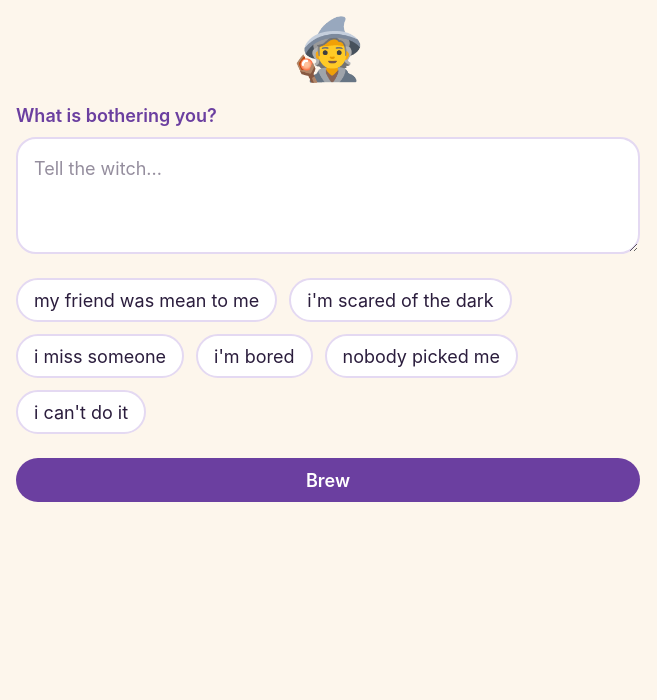
Test: App › returns to the form when Escape is pressed while presenting
This screenshot has width=657, height=700.
Type "i miss someone" into the text box labelled "What is bothering you?" at point(328, 196), box [16,137,640,254]
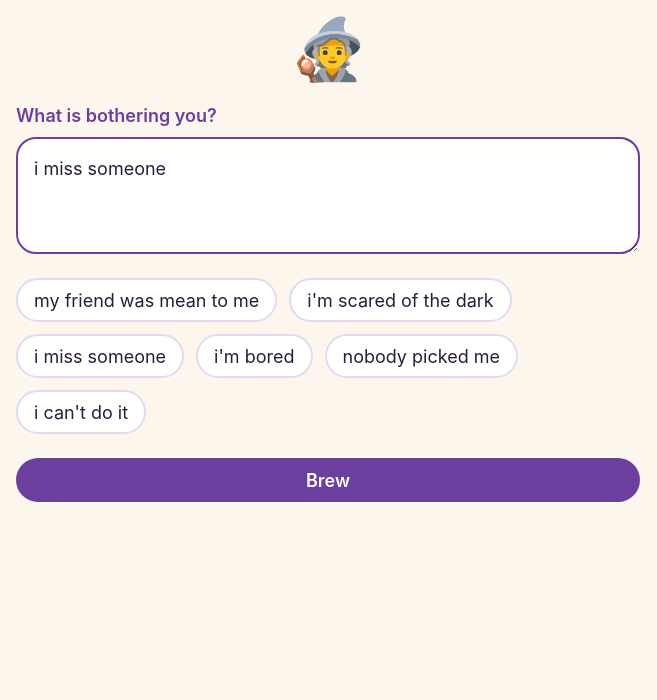
Click the button "Brew" at point(328, 480), box [16,458,640,502]
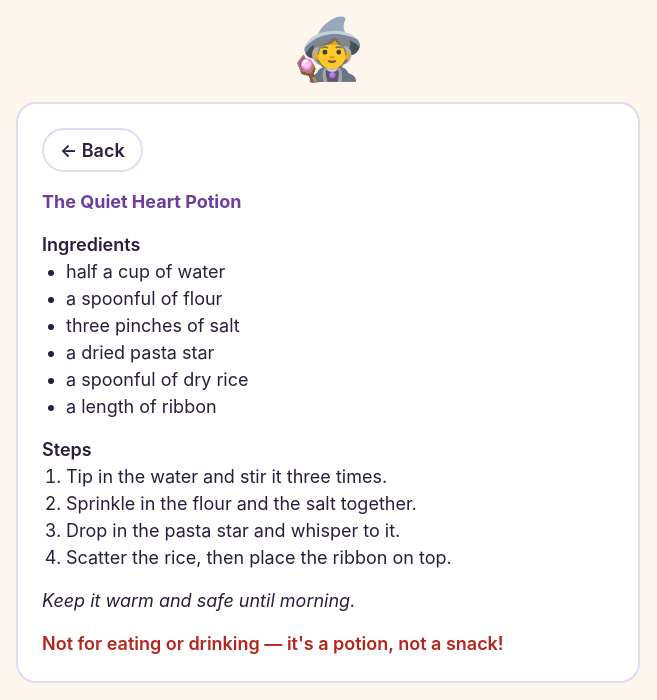
Expected: the heading "The Quiet Heart Potion" is shown, [42,191,242,212]
Press Escape
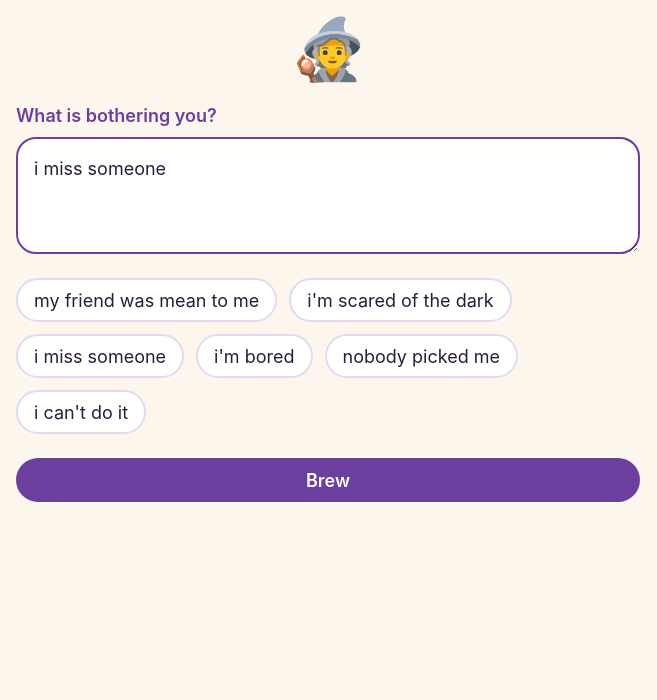
Expected: the text box labelled "What is bothering you?" is shown, [16,137,640,254]
Expected: the heading "The Quiet Heart Potion" is gone
